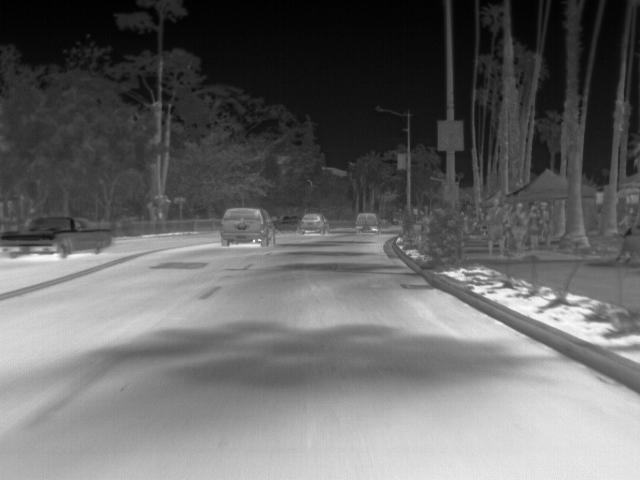car: (1, 215, 112, 257), (219, 204, 279, 246), (294, 212, 331, 233), (353, 212, 379, 231)
person: (483, 198, 506, 260), (507, 203, 528, 254), (527, 204, 545, 252)
